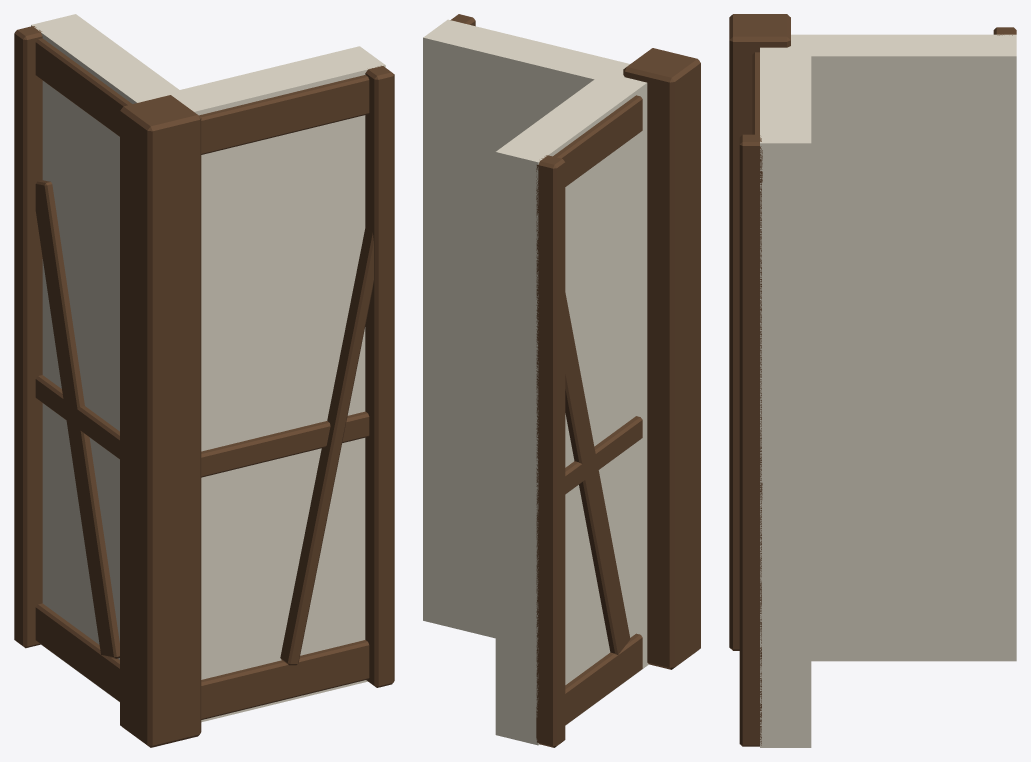
File: SM_Wall_TavernFrame_02_Corner.fbx
3 views of the same model, side by side, from view 1: azimuth 30°, elevation 25°; view 2: azimuth 150°, elevation 25°; view 3: azimuth 270°, elevation 25° (orthographic). The views are drawn at different scales.
Visible parts, largest first — view 1: SM_Wall_TavernFrame_02_Corner_PanelX, SM_Wall_TavernFrame_02_Corner_Post, SM_Wall_TavernFrame_02_Corner_PanelY, SM_Wall_TavernFrame_02_Corner_StudX_Far, SM_Wall_TavernFrame_02_Corner_StudY_Far, SM_Wall_TavernFrame_02_Corner_BraceY, SM_Wall_TavernFrame_02_Corner_BraceX, SM_Wall_TavernFrame_02_Corner_PlateX, SM_Wall_TavernFrame_02_Corner_SillX, SM_Wall_TavernFrame_02_Corner_RailX, SM_Wall_TavernFrame_02_Corner_PlateY, SM_Wall_TavernFrame_02_Corner_SillY (+1 smaller); view 2: SM_Wall_TavernFrame_02_Corner_PanelY, SM_Wall_TavernFrame_02_Corner_PanelX, SM_Wall_TavernFrame_02_Corner_Post, SM_Wall_TavernFrame_02_Corner_StudY_Far, SM_Wall_TavernFrame_02_Corner_BraceY, SM_Wall_TavernFrame_02_Corner_PlateY, SM_Wall_TavernFrame_02_Corner_SillY, SM_Wall_TavernFrame_02_Corner_RailY; view 3: SM_Wall_TavernFrame_02_Corner_PanelY, SM_Wall_TavernFrame_02_Corner_PanelX, SM_Wall_TavernFrame_02_Corner_StudX_Far, SM_Wall_TavernFrame_02_Corner_Post, SM_Wall_TavernFrame_02_Corner_PlateX.
Part boxes in pixels (bbox=[...]): SM_Wall_TavernFrame_02_Corner_PanelX: bbox=[134, 46, 385, 722]; SM_Wall_TavernFrame_02_Corner_Post: bbox=[120, 95, 201, 747]; SM_Wall_TavernFrame_02_Corner_PanelY: bbox=[31, 14, 178, 701]; SM_Wall_TavernFrame_02_Corner_StudX_Far: bbox=[365, 65, 394, 687]; SM_Wall_TavernFrame_02_Corner_StudY_Far: bbox=[14, 26, 42, 648]; SM_Wall_TavernFrame_02_Corner_BraceY: bbox=[35, 180, 119, 658]; SM_Wall_TavernFrame_02_Corner_BraceX: bbox=[280, 227, 373, 665]; SM_Wall_TavernFrame_02_Corner_PlateX: bbox=[199, 75, 369, 154]; SM_Wall_TavernFrame_02_Corner_SillX: bbox=[201, 640, 369, 719]; SM_Wall_TavernFrame_02_Corner_RailX: bbox=[201, 411, 369, 477]; SM_Wall_TavernFrame_02_Corner_PlateY: bbox=[35, 38, 132, 136]; SM_Wall_TavernFrame_02_Corner_SillY: bbox=[35, 603, 119, 701]; SM_Wall_TavernFrame_02_Corner_PanelY: bbox=[495, 79, 637, 745]; SM_Wall_TavernFrame_02_Corner_PanelX: bbox=[423, 19, 648, 672]; SM_Wall_TavernFrame_02_Corner_Post: bbox=[623, 48, 700, 669]; SM_Wall_TavernFrame_02_Corner_StudY_Far: bbox=[536, 155, 565, 747]; SM_Wall_TavernFrame_02_Corner_BraceY: bbox=[565, 293, 630, 654]; SM_Wall_TavernFrame_02_Corner_PlateY: bbox=[536, 95, 642, 201]; SM_Wall_TavernFrame_02_Corner_SillY: bbox=[536, 633, 642, 739]; SM_Wall_TavernFrame_02_Corner_RailY: bbox=[536, 416, 642, 508]; SM_Wall_TavernFrame_02_Corner_PanelY: bbox=[811, 34, 1016, 661]; SM_Wall_TavernFrame_02_Corner_PanelX: bbox=[760, 34, 811, 747]; SM_Wall_TavernFrame_02_Corner_StudX_Far: bbox=[739, 134, 761, 746]; SM_Wall_TavernFrame_02_Corner_Post: bbox=[729, 14, 790, 650]; SM_Wall_TavernFrame_02_Corner_PlateX: bbox=[752, 52, 762, 182].
Bounding box in the file's own units: 1.12 × 2.64 × 1.12.
